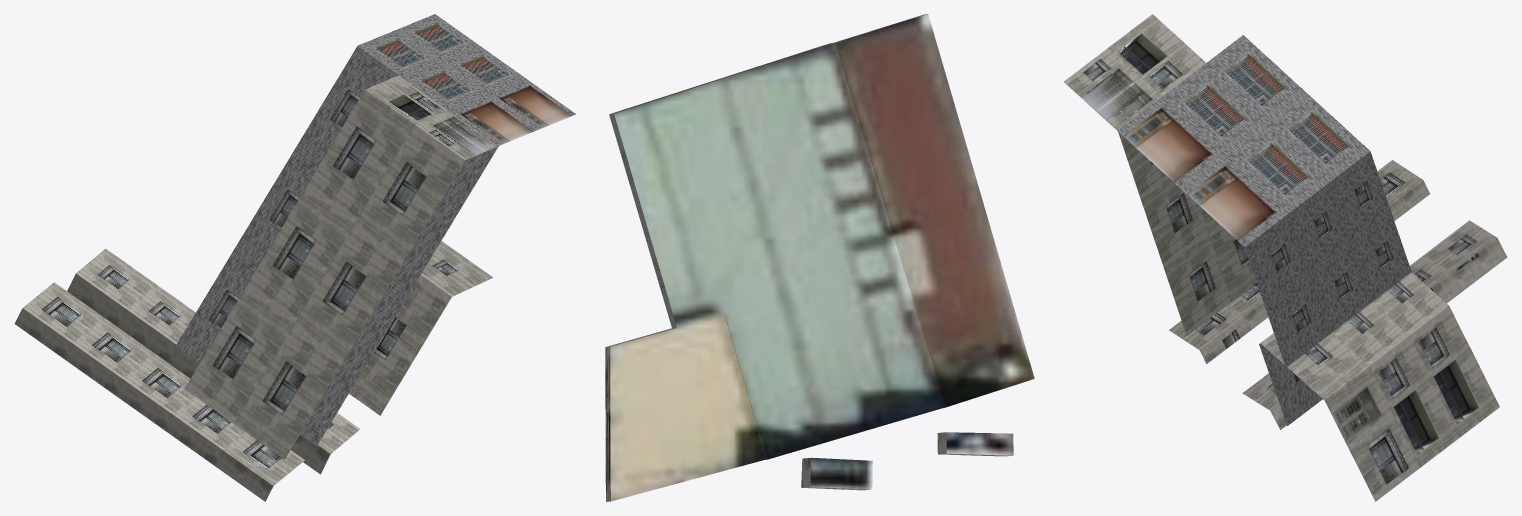
The picture shows the model from 3 angles, left to right: view 1: azimuth 30°, elevation 25°; view 2: azimuth 150°, elevation 25°; view 3: azimuth 270°, elevation 25°; orthographic projection. The views are drawn at different scales.
Bounding box in the file's own units: 28.96 × 25.13 × 25.23.
23 materials, 23 textured.
